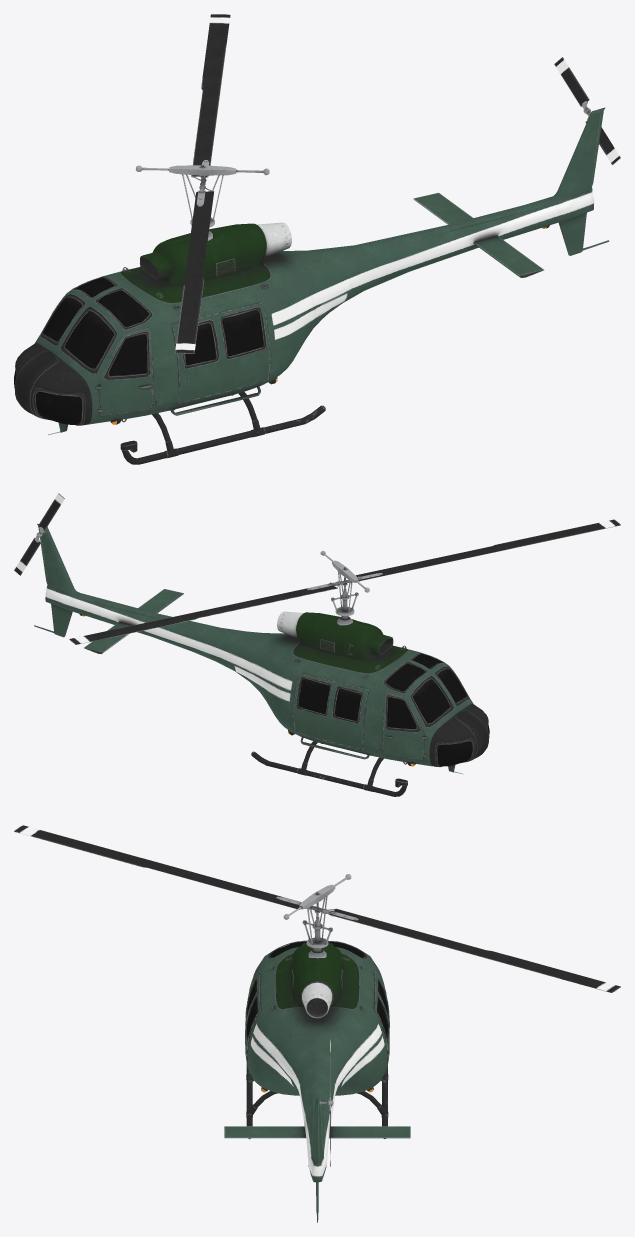
File: realhelicopter.glb
3 views of the same model, one above another, from view 1: azimuth 30°, elevation 25°; view 2: azimuth 150°, elevation 25°; view 3: azimuth 270°, elevation 25° (orthographic). The views are drawn at different scales.
Parts seen in each view (by area): view 1: Object_4, Object_3, Object_2; view 2: Object_4, Object_3, Object_2; view 3: Object_4, Object_3, Object_2.
Part boxes in pixels (x1=…): Object_4: x1=14, y1=57, x2=620, y2=464; Object_3: x1=14, y1=14, x2=270, y2=425; Object_2: x1=15, y1=45, x2=270, y2=425; Object_4: x1=14, y1=493, x2=489, y2=796; Object_3: x1=69, y1=519, x2=620, y2=766; Object_2: x1=76, y1=525, x2=620, y2=767; Object_4: x1=224, y1=874, x2=618, y2=1222; Object_3: x1=14, y1=825, x2=620, y2=1042; Object_2: x1=14, y1=831, x2=610, y2=1074.
Bounding box in the file's own units: 7.98 × 3.2 × 7.66.
1 material, 1 textured.
